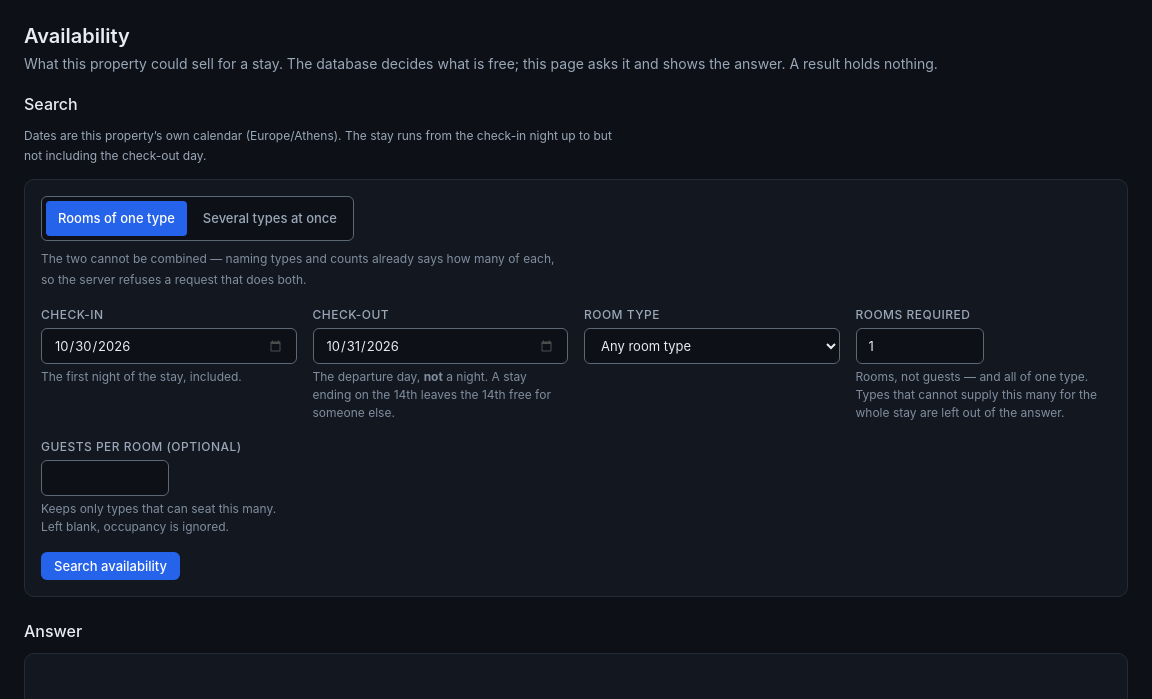
Test case: the request › sends a room type code exactly as the catalogue gave it
Expected: the date field labelled "Check-in" is shown, [41,328,296,364]
Select "Deluxe Sea View (DLX)" in the dropdown labelled "Room type" at (712, 346), box [584,328,840,364]
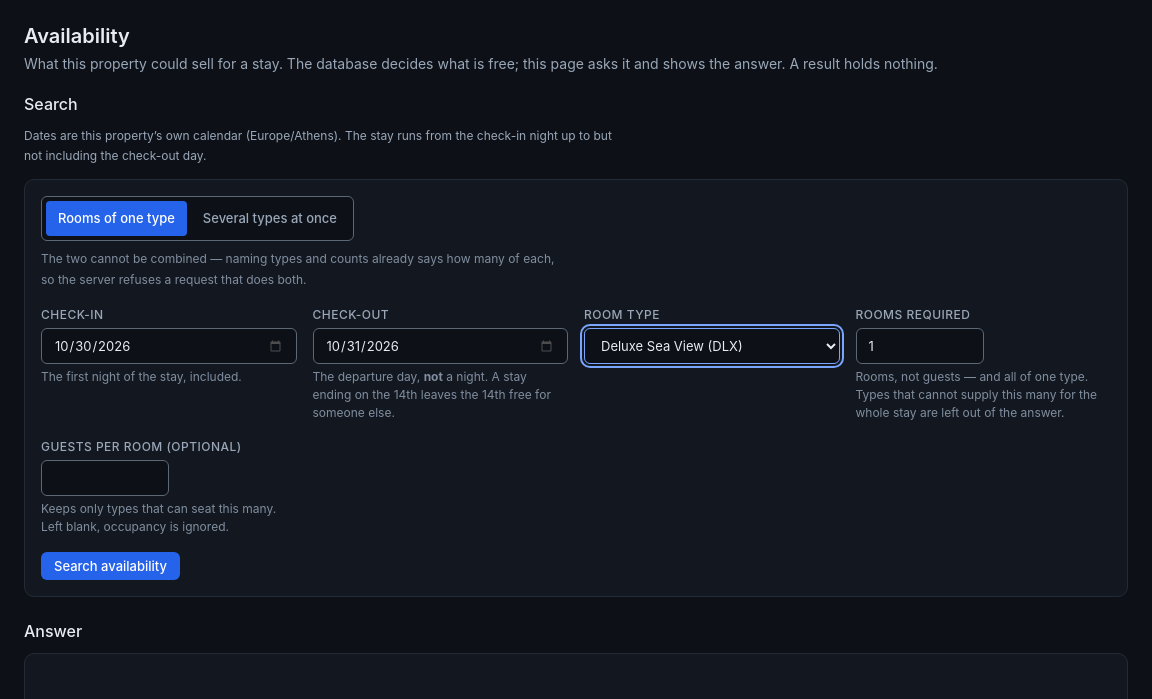
Type "2027-05-03" into the date field labelled "Check-in" at (169, 346), box [41,328,296,364]
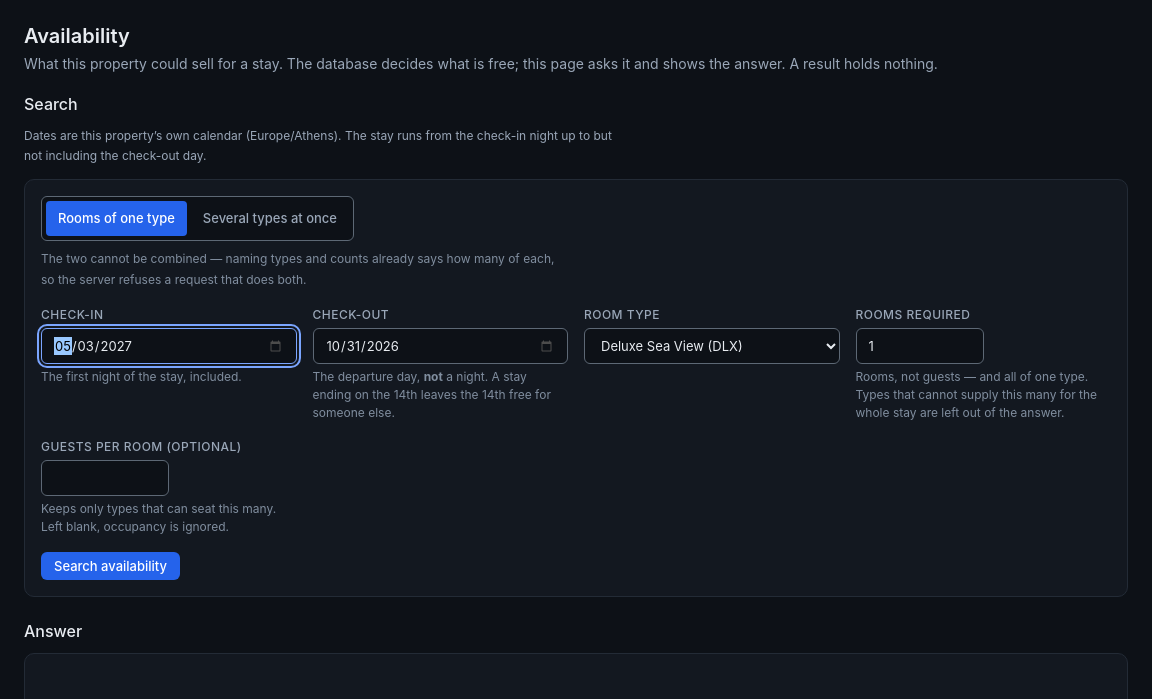
Type "2027-05-05" into the date field labelled "Check-out" at (440, 346), box [312,328,568,364]
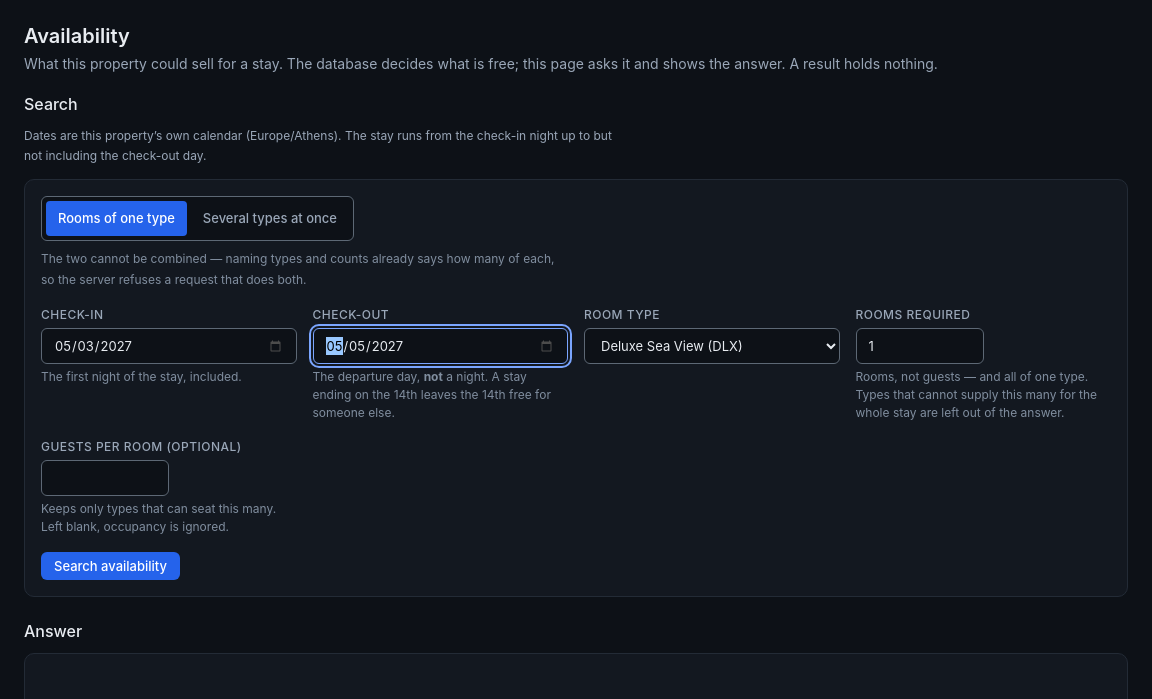
Click the button "Search availability" at (110, 566), box [41,552,180,580]
(page scrolled)
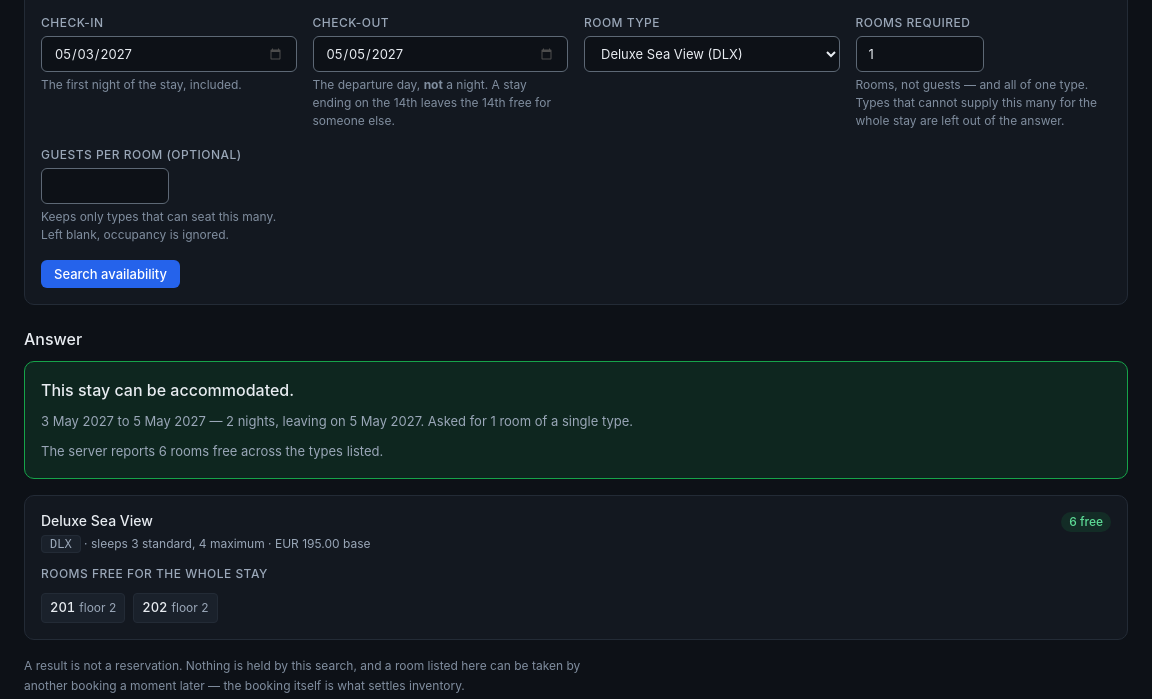
Now the text "DLX" is shown, box [41,535,81,553]
